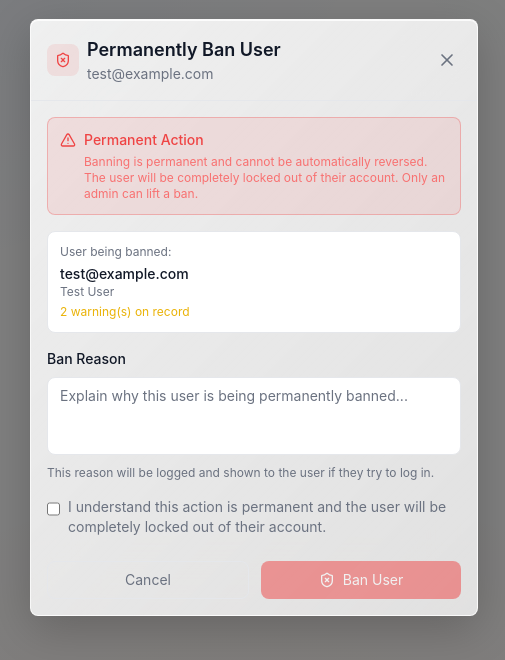
it: BanUserModal › submit button is enabled when reason is provided and confirmation is checked
This screenshot has width=505, height=660.
In the text box with placeholder "Explain why this user is being permanently banned...": [254, 416] box [47, 376, 461, 454], type "Violation of terms"
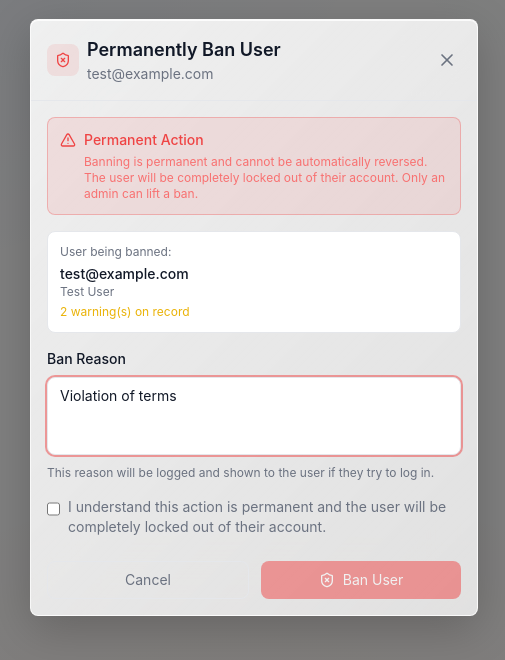
Click the checkbox: [54, 508] box [47, 500, 60, 516]
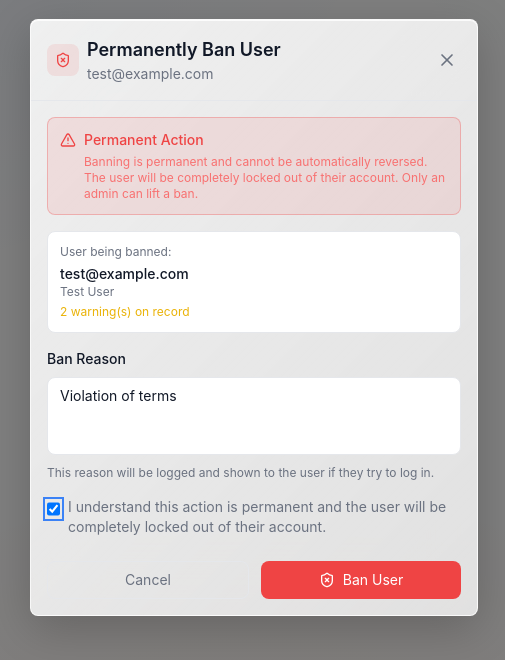
expect the button "Ban User" is enabled: met, box [261, 560, 461, 598]
